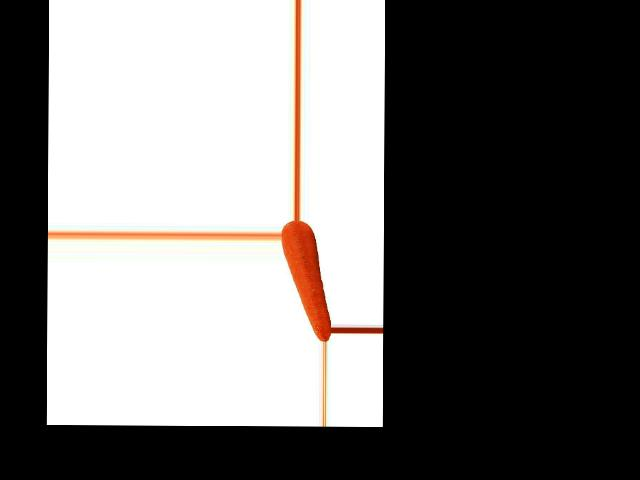carrot: (281, 220, 331, 340)
